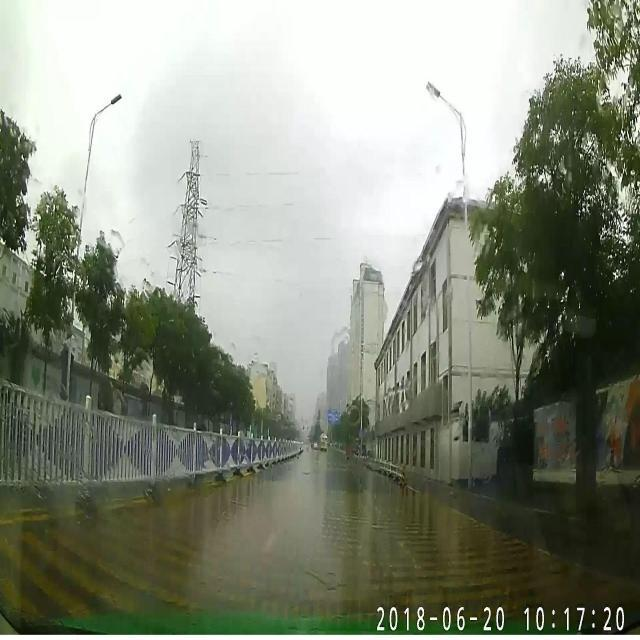car: (318, 434, 330, 454)
